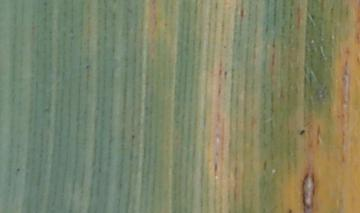tarspot: (315, 123, 322, 145), (213, 159, 220, 176), (261, 156, 269, 170), (298, 127, 307, 137), (344, 45, 352, 56), (239, 6, 245, 17), (83, 63, 91, 70), (222, 69, 227, 80), (355, 55, 360, 65), (286, 207, 293, 213), (129, 133, 136, 139), (14, 167, 22, 172)
